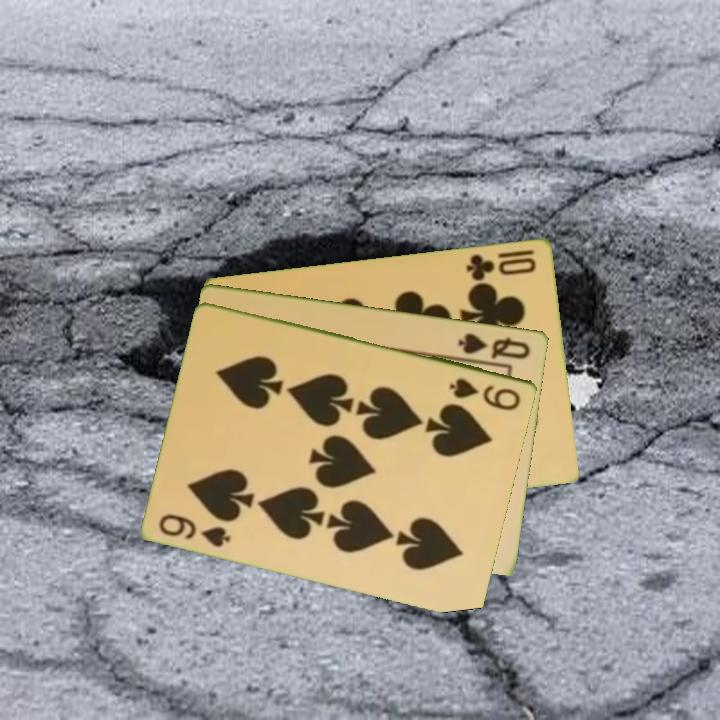10c: (463, 250, 539, 283)
9s: (155, 510, 234, 550), (446, 374, 524, 413)
Qs: (455, 329, 534, 362)
